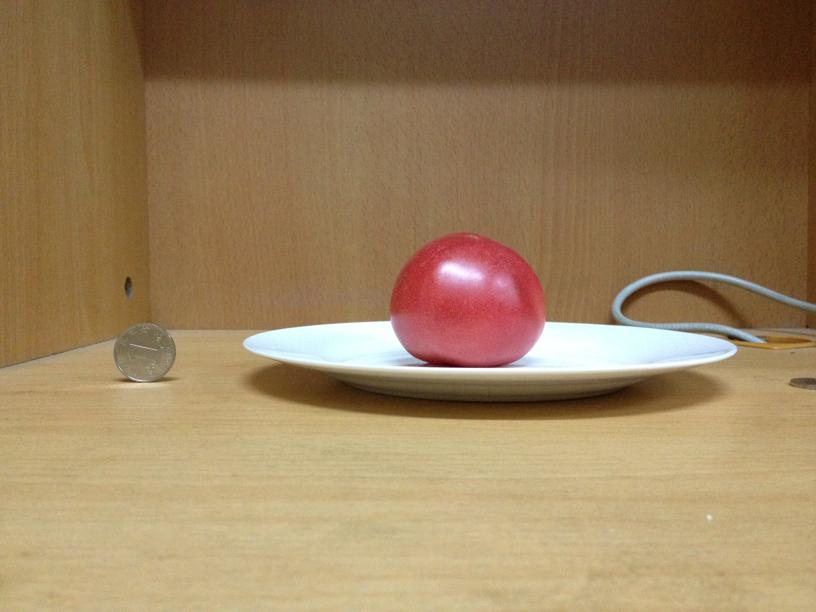coin: (110, 325, 179, 381)
tomato: (382, 229, 545, 367)
